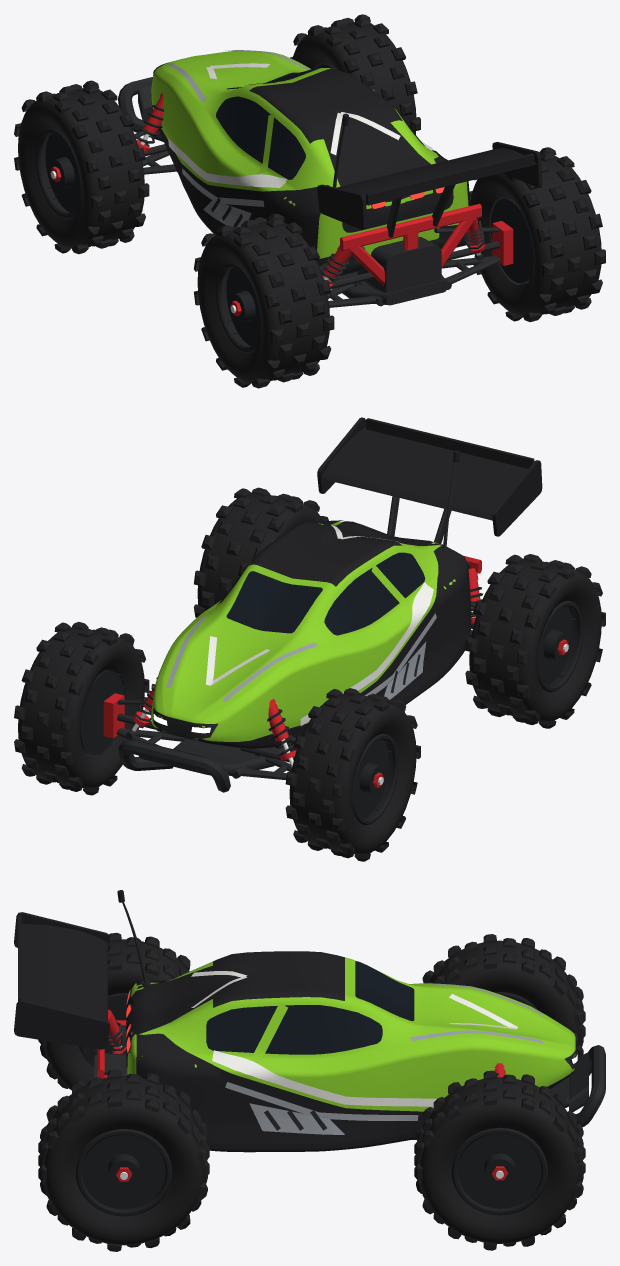
File: zip.glb
3 renders of one model, top to bottom at view 1: azimuth 30°, elevation 25°; view 2: azimuth 150°, elevation 25°; view 3: azimuth 270°, elevation 25°, orthographic. The views are drawn at different scales.
Parts seen in each view (by area): view 1: body, wheel_rl, wheel_fl, wheel_rr, wheel_fr; view 2: body, wheel_rl, wheel_fl, wheel_fr, wheel_rr; view 3: body, wheel_rr, wheel_fr, wheel_fl, wheel_rl.
Boxes of the visible parts, x1,y1,x2,y2 form: body: (118,50,542,307); wheel_rl: (194,213,334,388); wheel_fl: (14,80,149,254); wheel_rr: (469,147,605,321); wheel_fr: (290,14,420,134); body: (103,417,542,792); wheel_rl: (465,554,605,728); wheel_fl: (285,688,420,861); wheel_fr: (14,621,149,795); wheel_rr: (194,487,328,617); body: (14,912,605,1152); wheel_rr: (38,1069,209,1251); wheel_fr: (414,1070,585,1250); wheel_fl: (422,934,585,1056); wheel_rl: (38,932,190,1090).
Size of the model in its own units: 1.21 by 0.8399 by 1.8.
